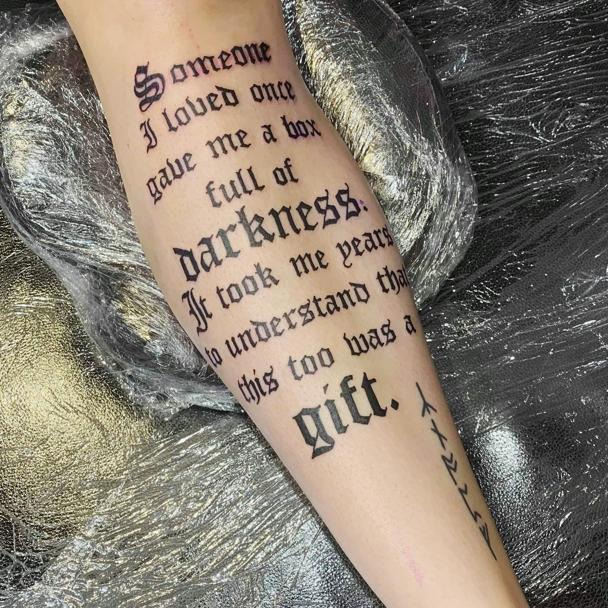tattoos: (133, 42, 418, 459), (416, 381, 498, 562)
